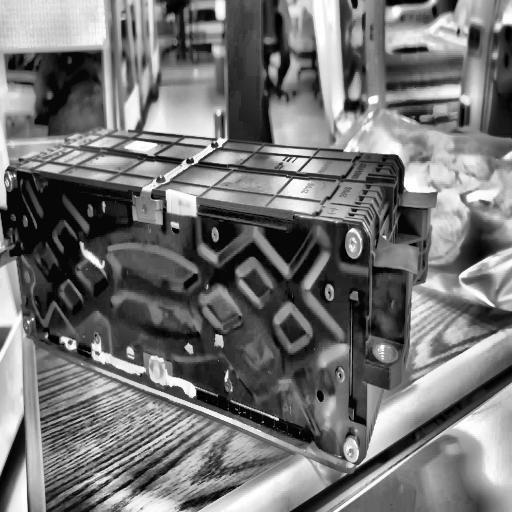battery_module: (0, 122, 443, 472)
